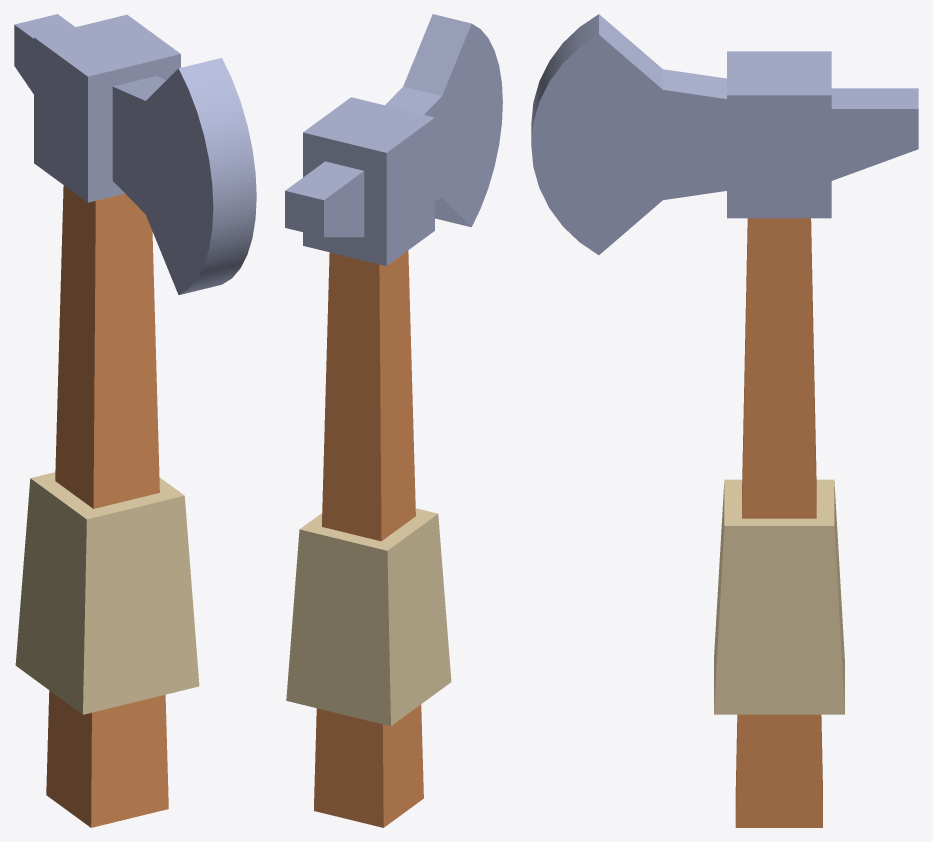
The model's file is toolAxe.obj.
3 renders of one model, left to right at view 1: azimuth 30°, elevation 25°; view 2: azimuth 150°, elevation 25°; view 3: azimuth 270°, elevation 25°, orthographic. The views are drawn at different scales.
Visible parts, largest first — view 1: toolAxe; view 2: toolAxe; view 3: toolAxe.
Part boxes in pixels (<box>): toolAxe: <box>14,14,256,827</box>; toolAxe: <box>285,14,502,827</box>; toolAxe: <box>531,14,918,827</box>.
Bounding box in the file's own units: 0.1548 × 1.02 × 0.4579.
